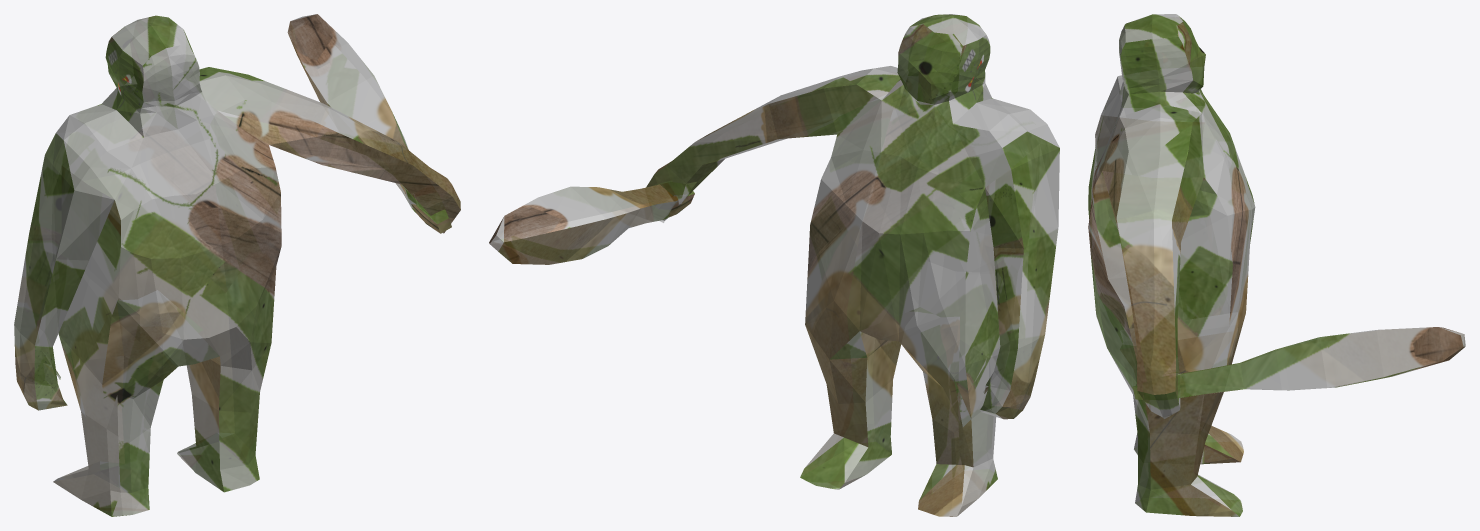
File: Enemigo220.obj
3 views of the same model, side by side, from view 1: azimuth 30°, elevation 25°; view 2: azimuth 150°, elevation 25°; view 3: azimuth 270°, elevation 25° (orthographic). The views are drawn at different scales.
Parts seen in each view (by area): view 1: Cube; view 2: Cube; view 3: Cube.
Part boxes in pixels (x1,y1,x2,y2): Cube: [14, 14, 460, 516]; Cube: [489, 14, 1059, 516]; Cube: [1088, 14, 1465, 516].
Bounding box in the file's own units: 2.59 × 2.7 × 2.03.
1 material, 1 textured.
